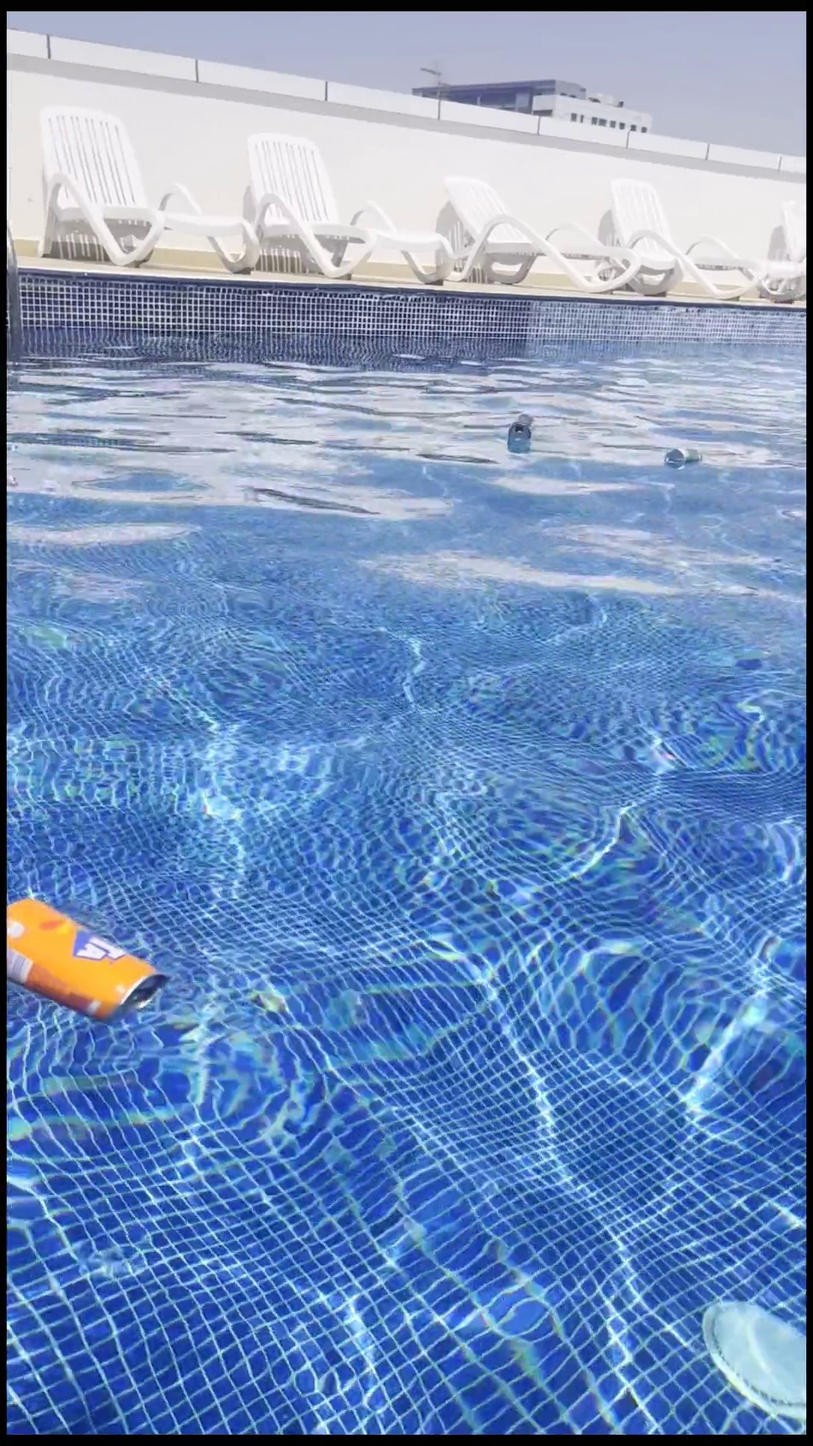debris: (8, 885, 171, 1018), (658, 427, 705, 487), (501, 401, 535, 467)
